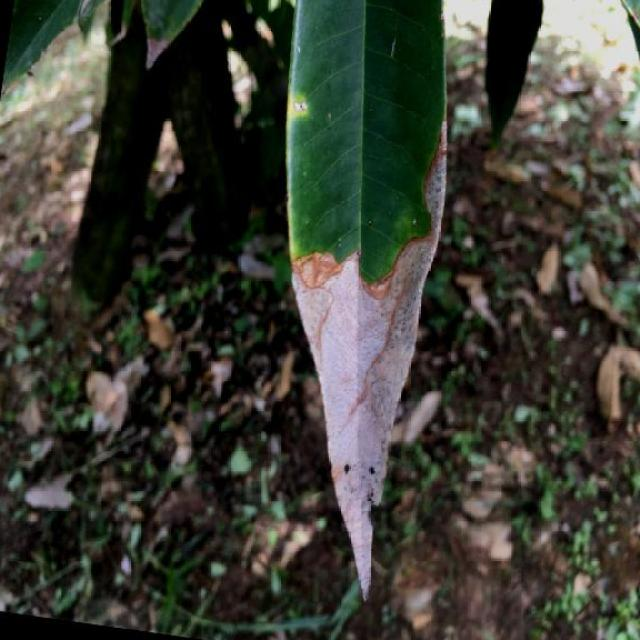Leaf Blight: (203, 0, 490, 620)
